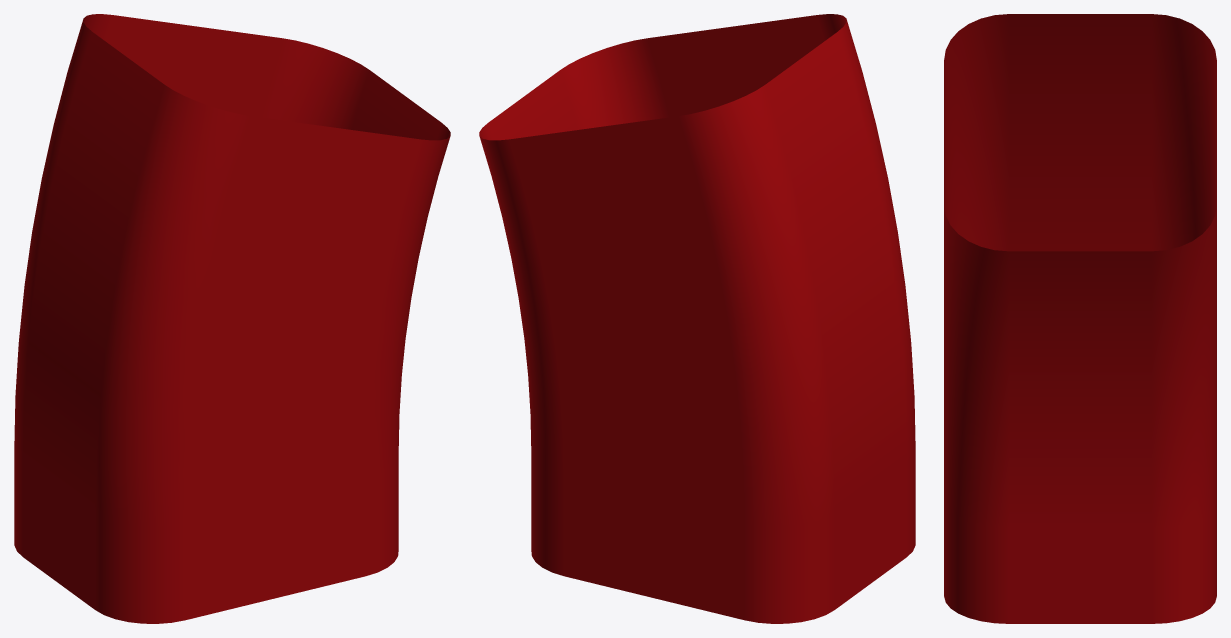
Rendered from FG_LegL.obj.
3 renders of one model, left to right at view 1: azimuth 30°, elevation 25°; view 2: azimuth 150°, elevation 25°; view 3: azimuth 270°, elevation 25°, orthographic.
Visible parts, largest first — view 1: FG_LegL; view 2: FG_LegL; view 3: FG_LegL.
Part boxes in pixels (x1,y1,x2,y2): FG_LegL: (14,14,450,623); FG_LegL: (479,14,915,623); FG_LegL: (944,14,1216,623).
Size of the model in its own units: 3.76 by 5.28 by 2.6.
